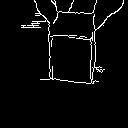cube: (43, 11, 107, 95)
